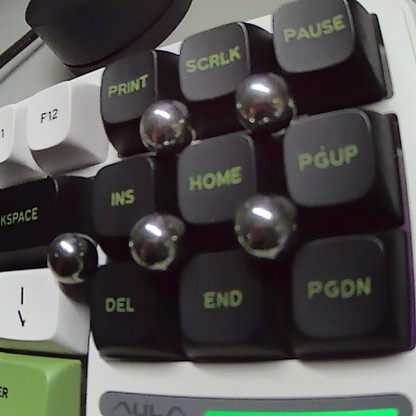ironball: (117, 204, 197, 284), (221, 192, 302, 266), (28, 227, 108, 296), (224, 71, 294, 141), (130, 96, 205, 160)
